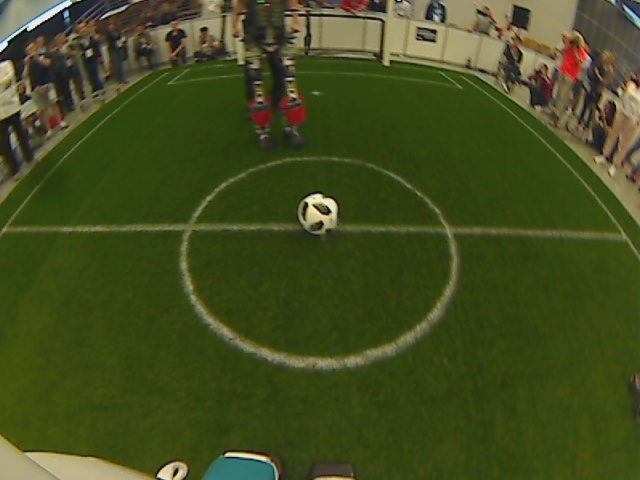ball: (294, 190, 344, 238)
